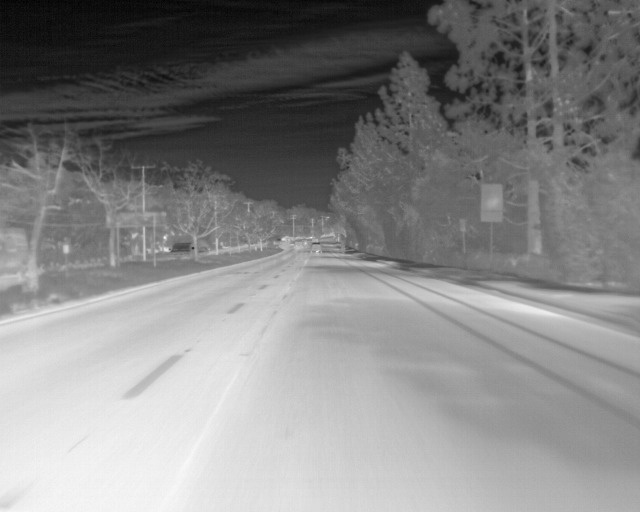car: (310, 237, 324, 255)
